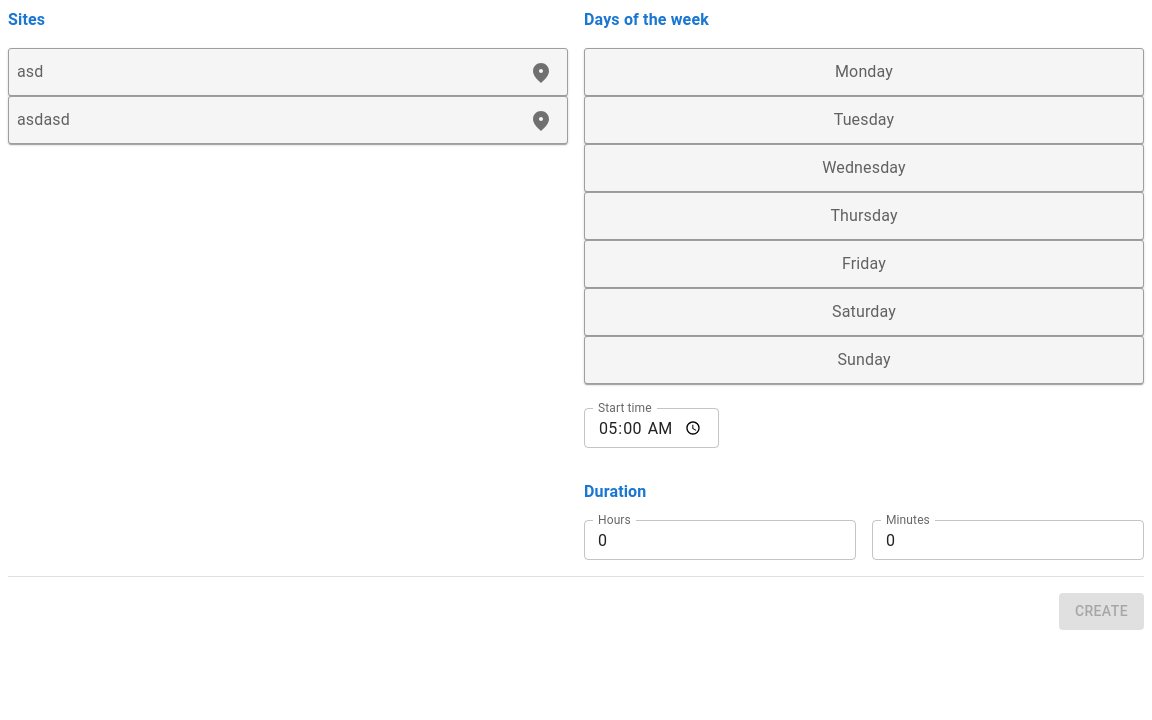
ShiftForm › should show error message when the start time is less than the minimum hours
The image size is (1152, 720).
# minimum hours is 05:00
Type "04:00" into the time field labelled "Start time" at coordinates (651, 428), box [584, 408, 719, 448]
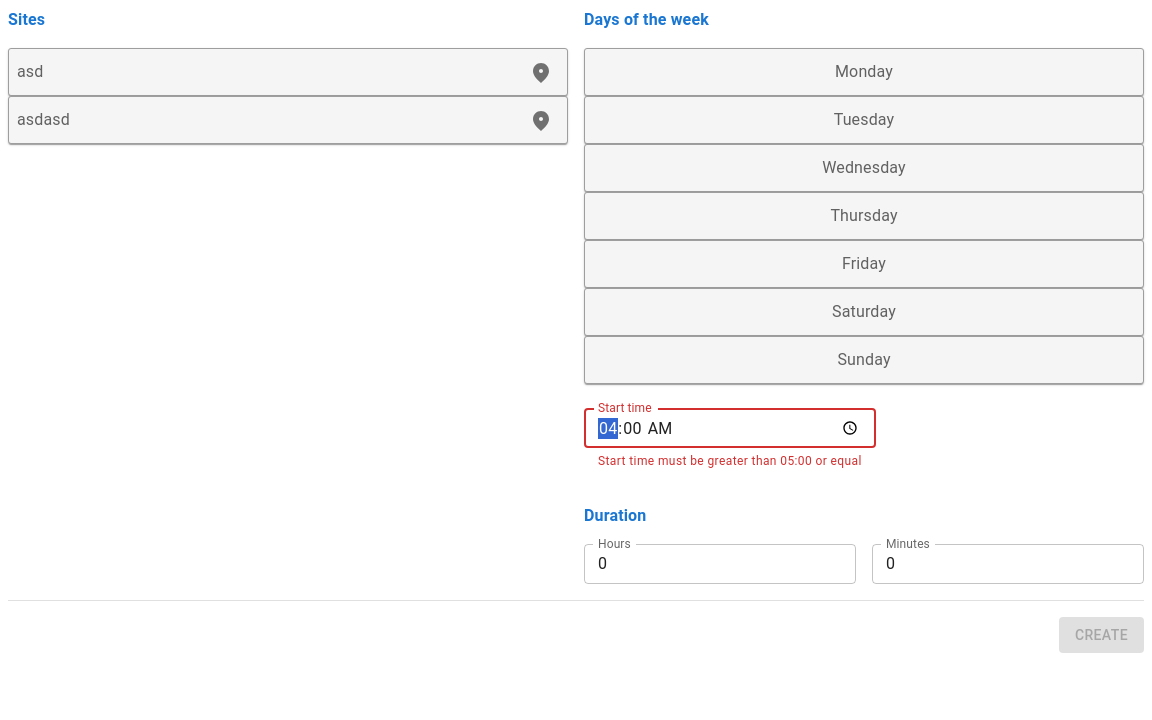
Expected: the text "Start time must be greater than 05:00 or equal" is shown, [598, 452, 862, 472]
